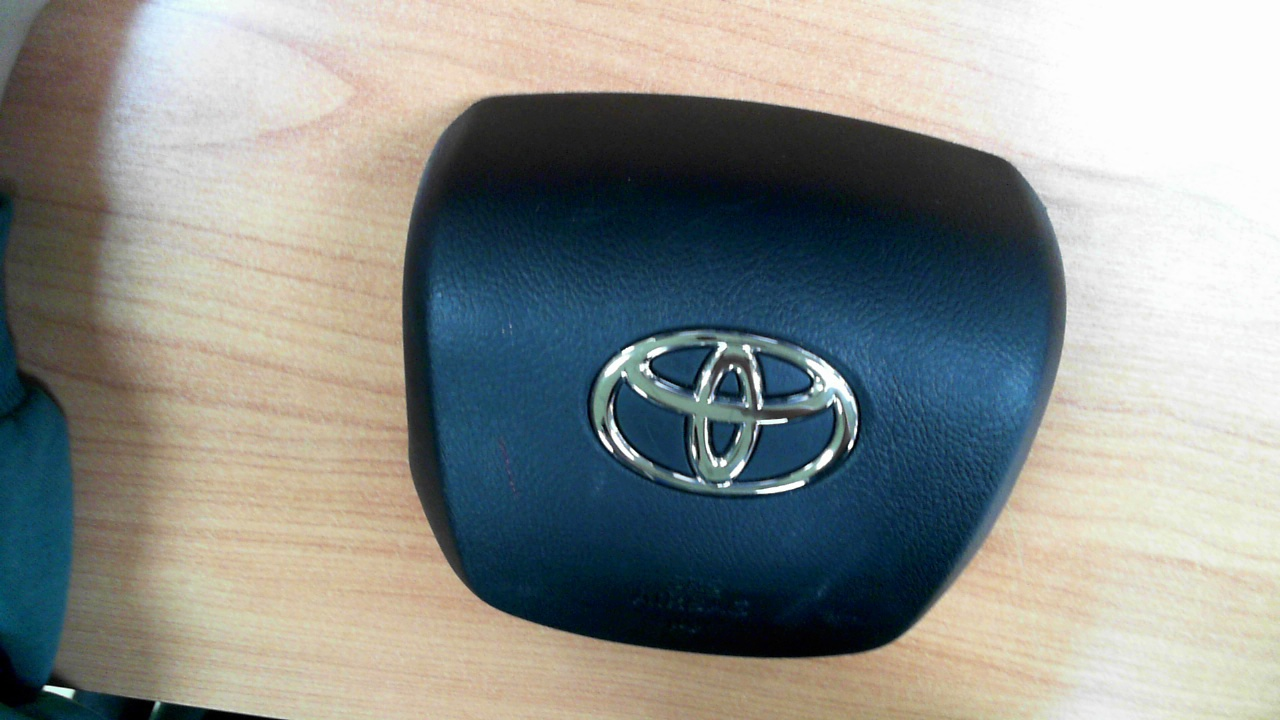Airbag: (402, 91, 1067, 661)
Toyota: (586, 328, 859, 495)
